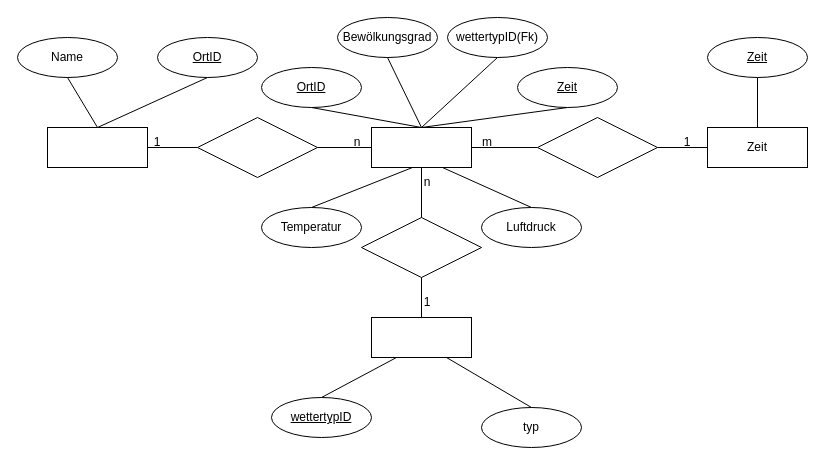
Some shapes in this 825 by 465 pixel diagram are drawn without their labels. Here are the shapes that lost their labels. From the top down, the centre of each, then its label:
point (97, 147): Ort
point (421, 147): Wetterlage
point (421, 337): Wettertyp
